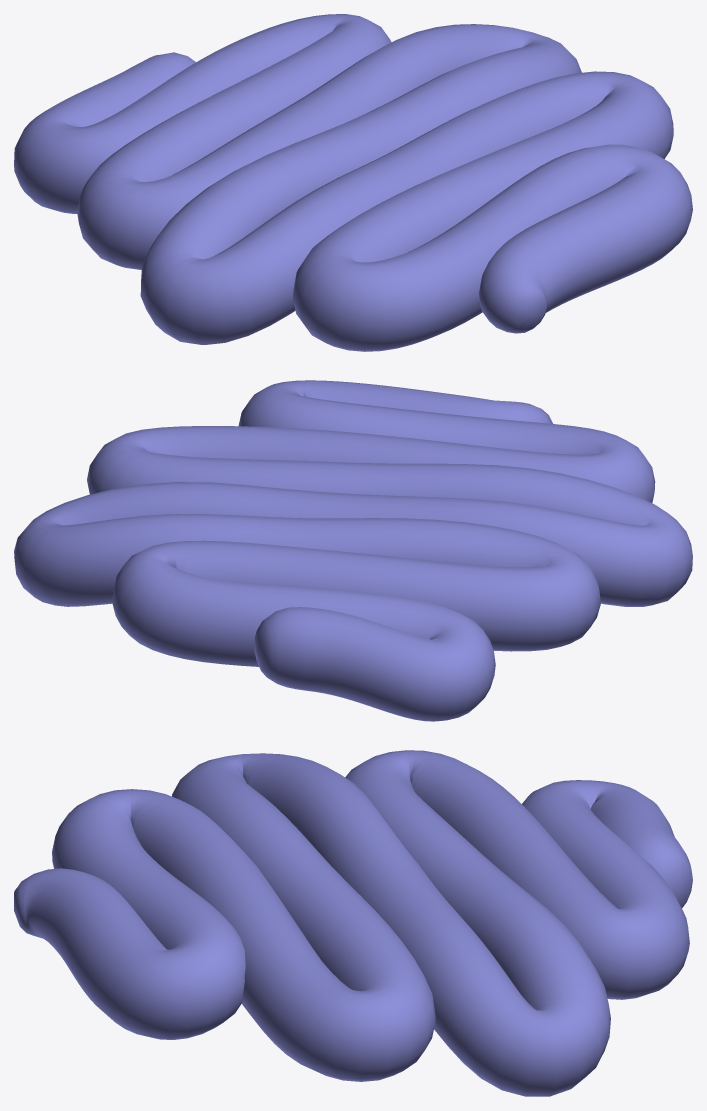
File: Donut_Cream_03.fbx
3 views of the same model, one above another, from view 1: azimuth 30°, elevation 25°; view 2: azimuth 150°, elevation 25°; view 3: azimuth 270°, elevation 25° (orthographic). The views are drawn at different scales.
Visible parts, largest first — view 1: Donut_Cream_03_LOD0; view 2: Donut_Cream_03_LOD0; view 3: Donut_Cream_03_LOD0.
Part boxes in pixels (<box>): Donut_Cream_03_LOD0: <box>14,14,692,351</box>; Donut_Cream_03_LOD0: <box>14,380,692,721</box>; Donut_Cream_03_LOD0: <box>14,750,692,1096</box>.
Size of what is drawn, in the model's own units: 455 by 87.69 by 458.
